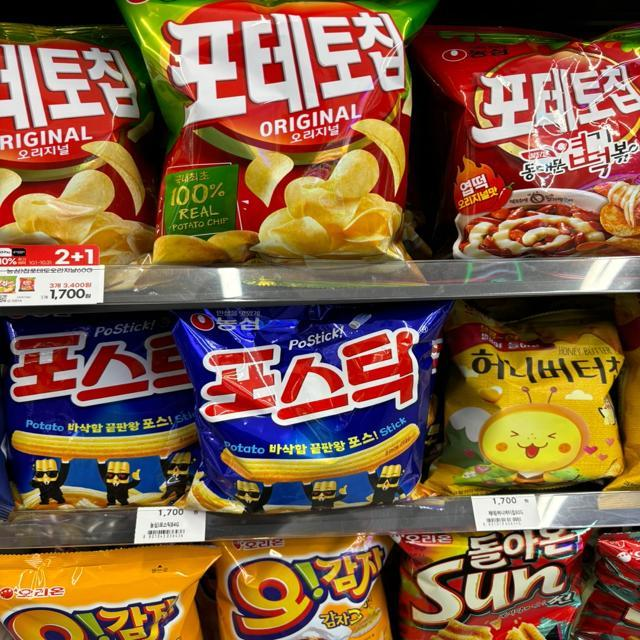product: (136, 1, 427, 266), (186, 308, 439, 509), (432, 26, 640, 260), (3, 305, 193, 516), (457, 304, 620, 479), (411, 534, 588, 640), (218, 539, 383, 640)
